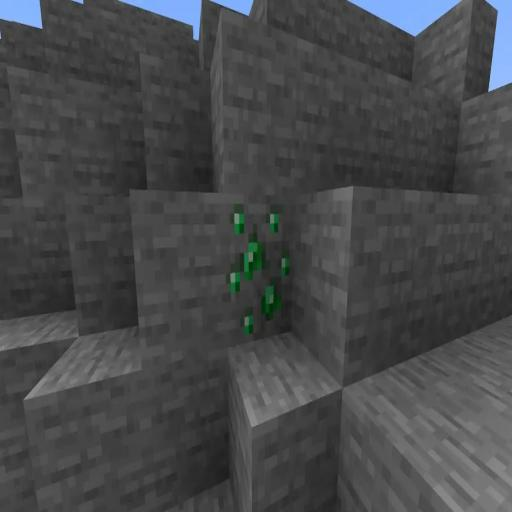emerald ore: (221, 188, 296, 348)
